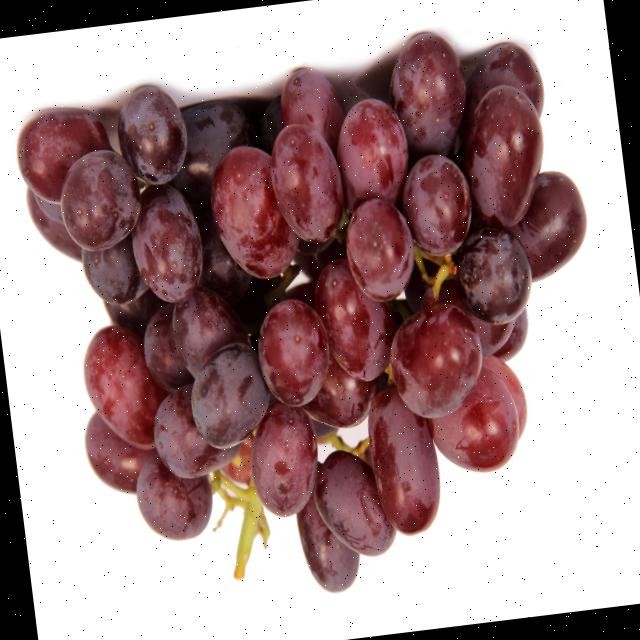grape: (16, 32, 585, 591)
